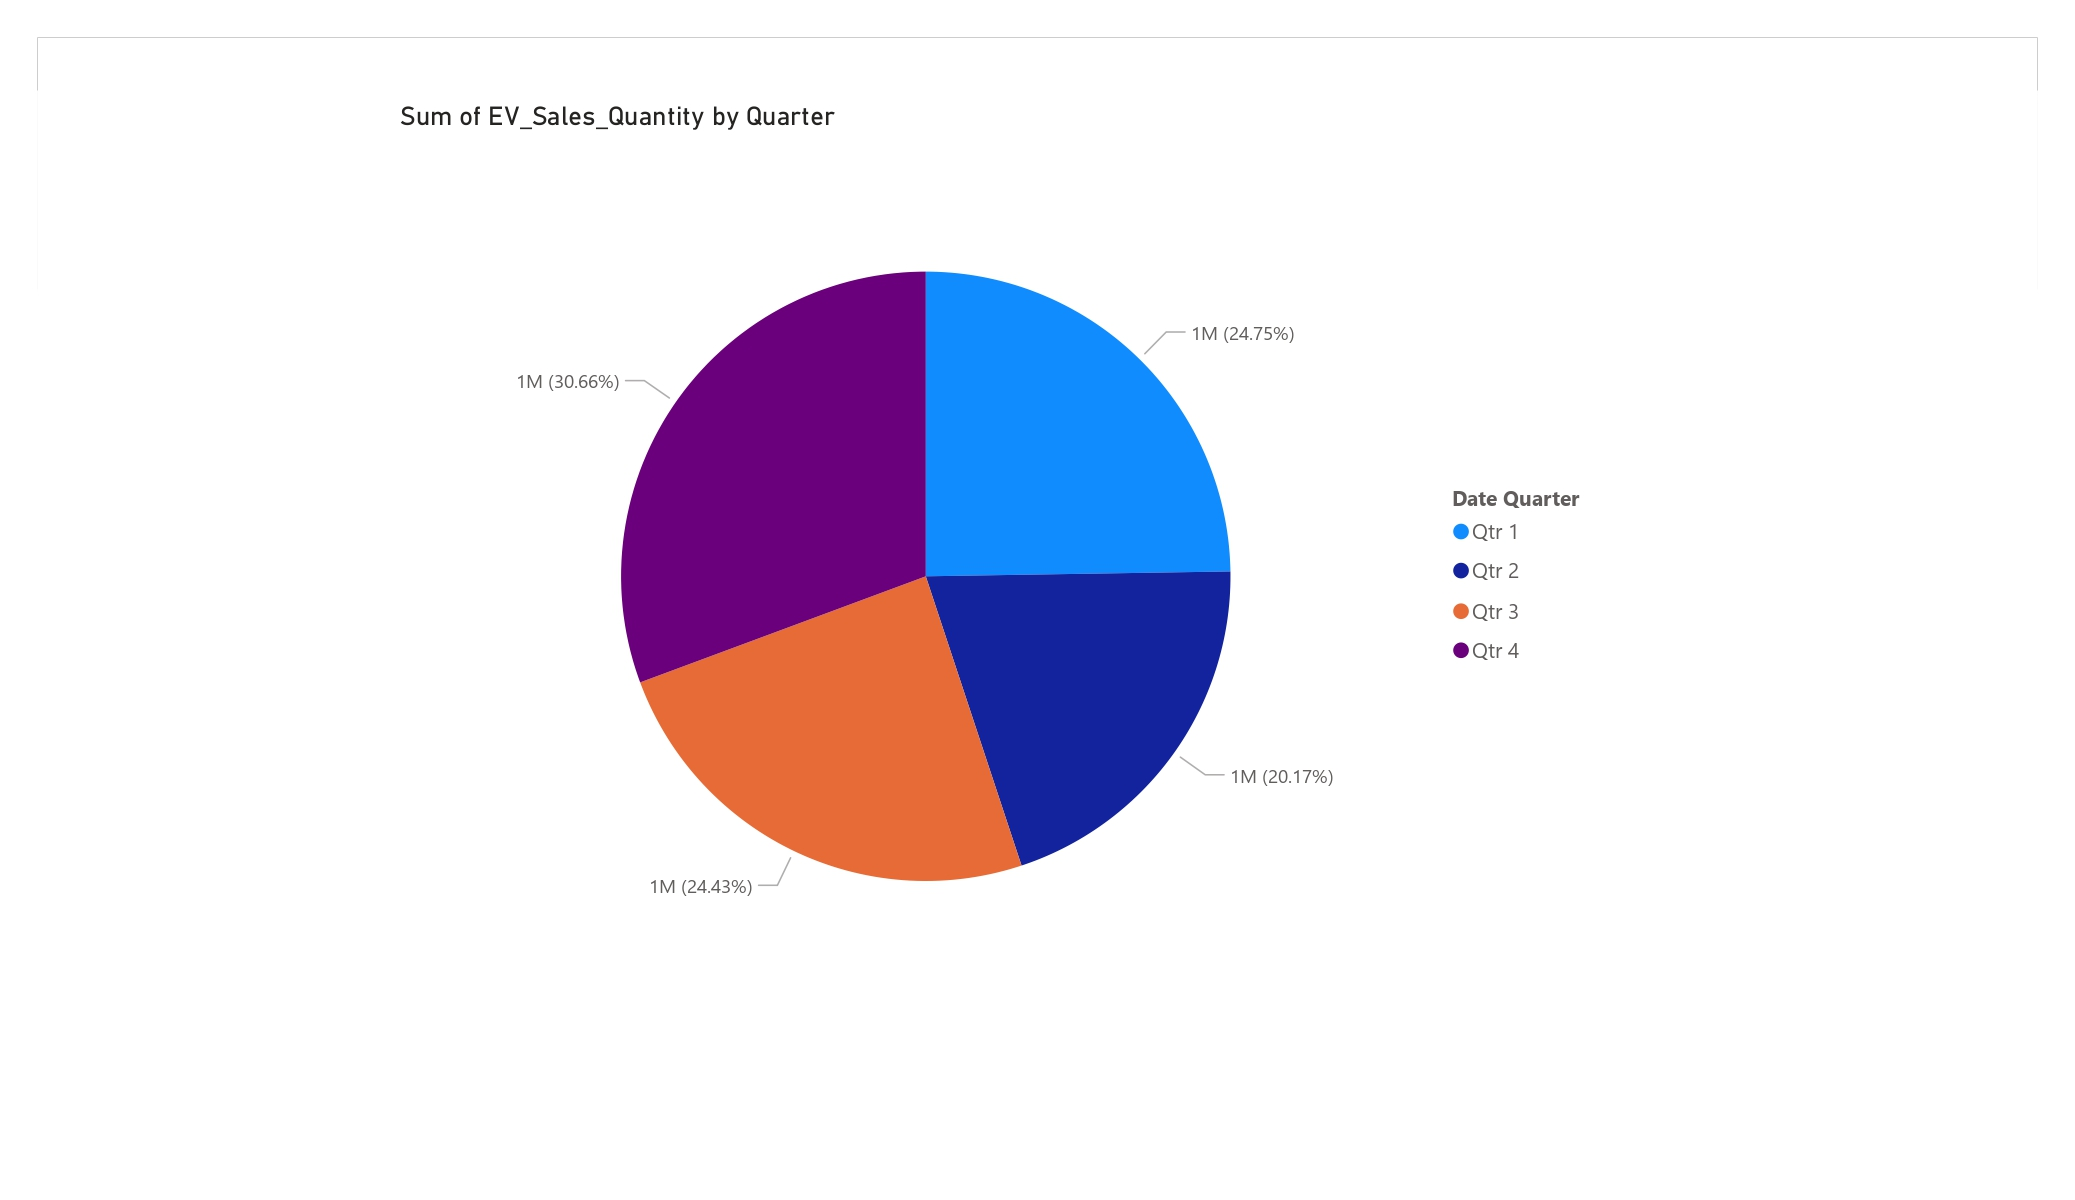

What the dashboard file says about the page in this screenshot:
{"tool":"powerbi","page":{"name":"Page 8","canvas":[1280,720],"ordinal":7},"visuals":[{"type":"pieChart","fields":{"Category":["ev.Date.Variation.Date Hierarchy.Quarter"],"Y":["Sum(ev.EV_Sales_Quantity)"]},"box":[226.9,39.8,781.9,591.4],"z":0}]}

Visuals, with their boxes on the page's 1280x720 design canvas (x1, y1, x2, y2). These are canvas units, not pixel positions in the 2075x1200 screenshot, which may show the page scaled, cropped or inside an application window:
pieChart - ev.Date.Variation.Date Hierarchy.Quarter x Sum(ev.EV_Sales_Quantity): [left=227, top=40, right=1009, bottom=631]
